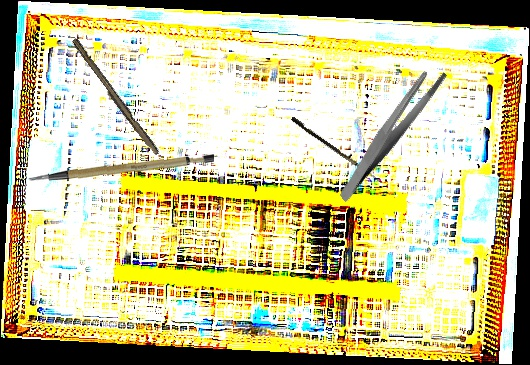Dressing Forceps: (311, 62, 471, 203)
Hook Surgical: (289, 116, 386, 184)
Scalpel Handle: (67, 37, 163, 158), (27, 145, 215, 189)
